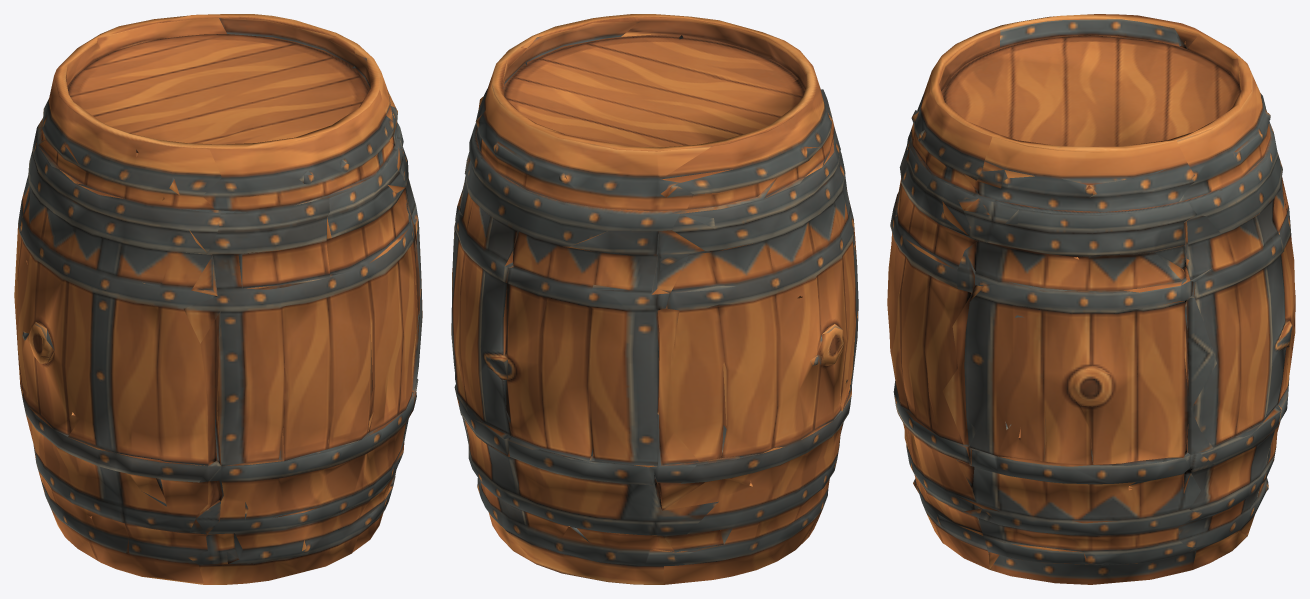
File: wine_barrel-stylized.glb
3 renders of one model, left to right at view 1: azimuth 30°, elevation 25°; view 2: azimuth 150°, elevation 25°; view 3: azimuth 270°, elevation 25°, orthographic.
Visible parts, largest first — view 1: Mesh1.0; view 2: Mesh1.0; view 3: Mesh1.0.
Part boxes in pixels (left/top/right/bottom): Mesh1.0: left=14, top=14, right=422, bottom=584; Mesh1.0: left=451, top=14, right=858, bottom=584; Mesh1.0: left=887, top=14, right=1295, bottom=584.
Bounding box in the file's own units: 1.72 × 1.99 × 1.69.
Materials: 1 (1 with a texture image).
